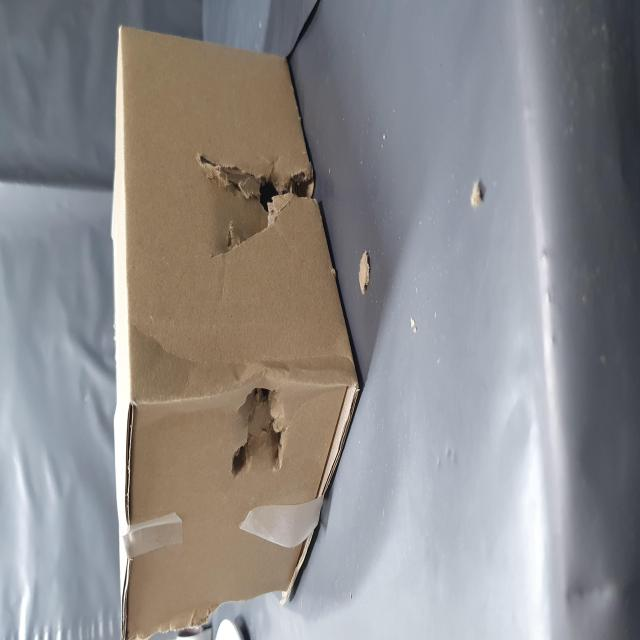damaged: (217, 362, 275, 544), (88, 398, 146, 518)
